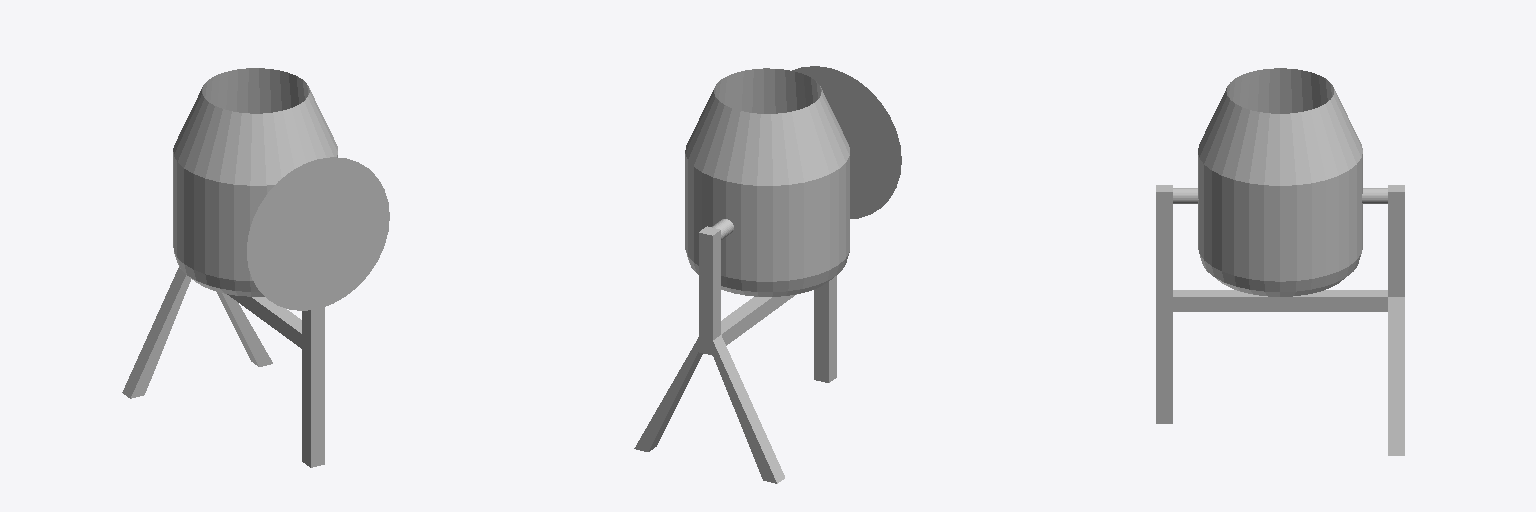
Rendered from mixer.obj.
The picture shows the model from 3 angles: view 1: azimuth 30°, elevation 25°; view 2: azimuth 150°, elevation 25°; view 3: azimuth 270°, elevation 25°; orthographic projection.
Visible parts, largest first — view 1: Cube.001, Cube; view 2: Cube, Cube.001; view 3: Cube, Cube.001.
Boxes of the visible parts, box(x1,y1,x2,y2) form: Cube.001: box(122, 157, 389, 467); Cube: box(173, 68, 337, 296); Cube: box(685, 68, 849, 296); Cube.001: box(634, 66, 901, 483); Cube: box(1198, 68, 1362, 296); Cube.001: box(1156, 185, 1404, 455).
Bounding box in the file's own units: 2 × 4.4 × 3.01.